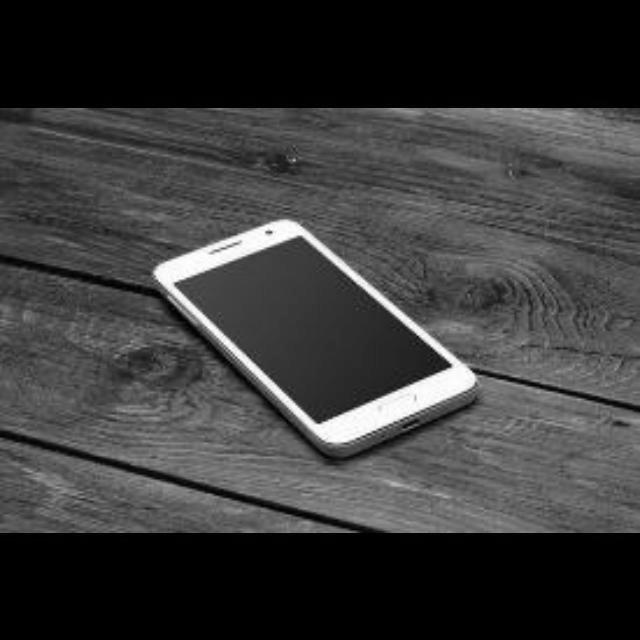fake: (136, 196, 514, 472)
